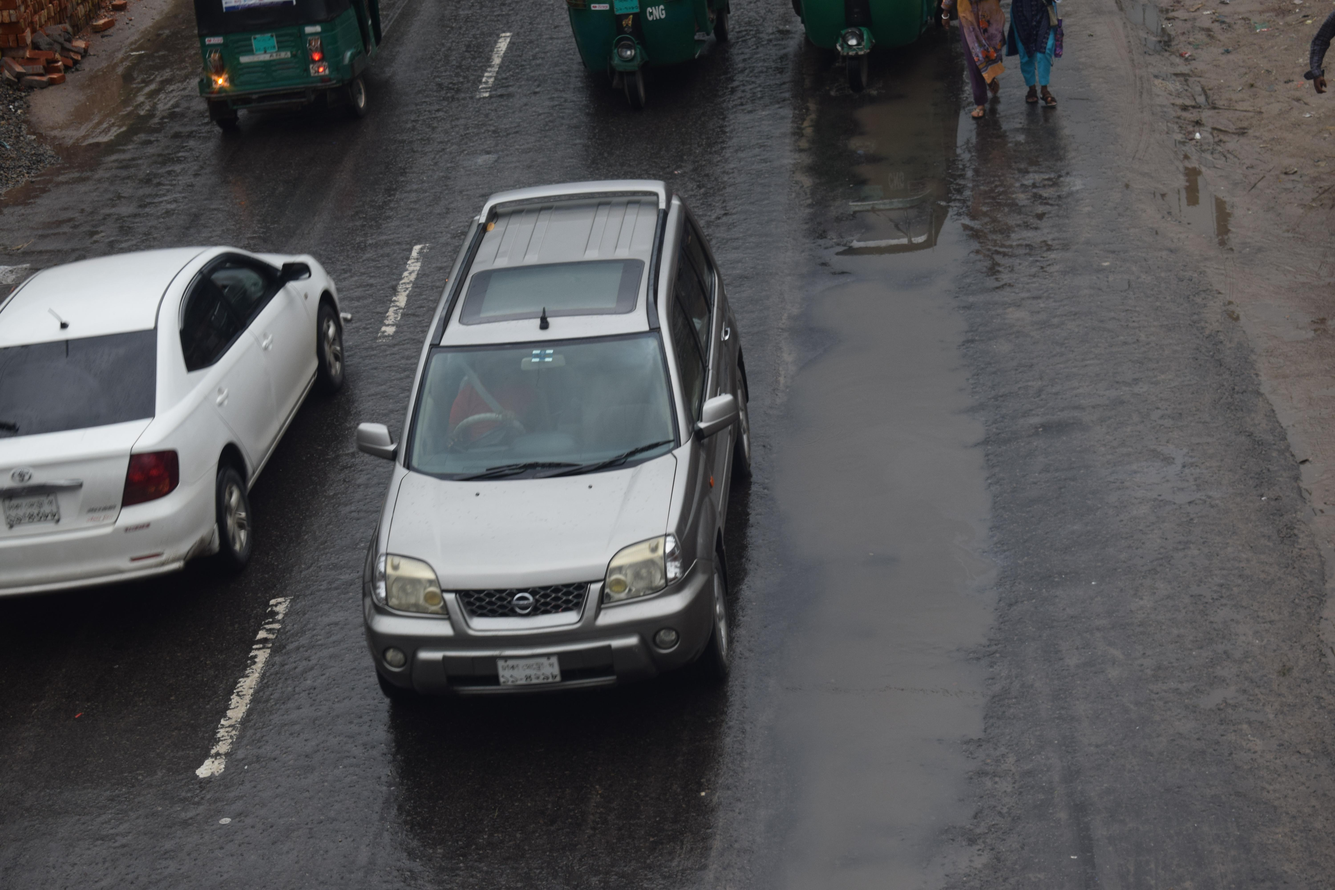Car: (324, 138, 794, 786), (0, 211, 363, 633)
